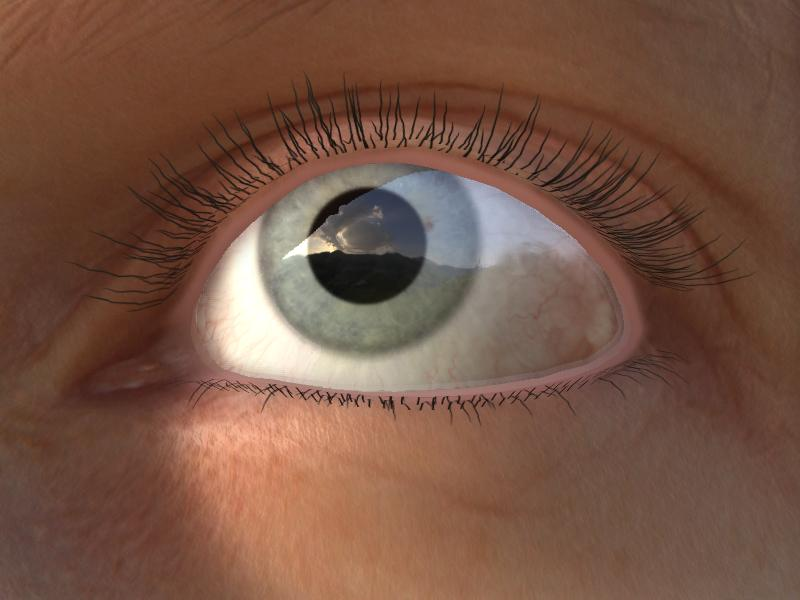eye: (257, 155, 481, 356)
